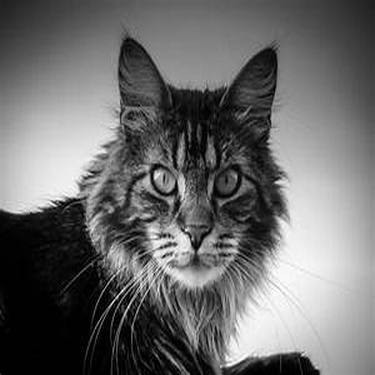cat: (4, 35, 323, 369)
